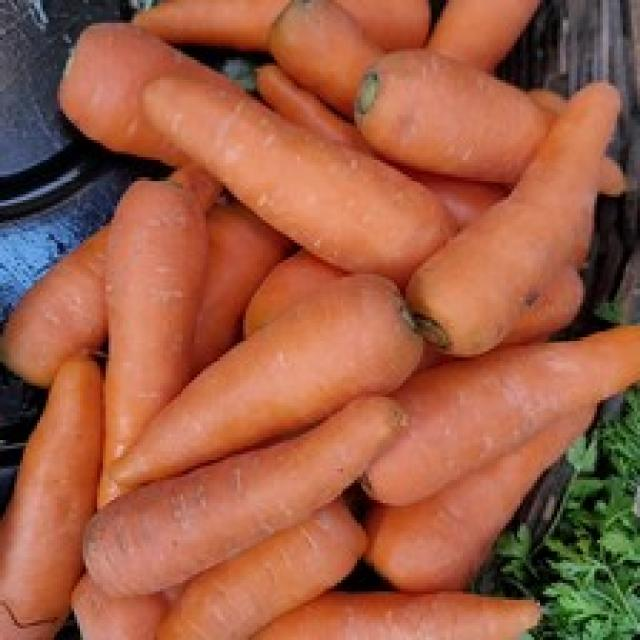Fresh_Carrot: (54, 3, 462, 268), (327, 62, 612, 396), (72, 474, 557, 640), (73, 179, 216, 475)
